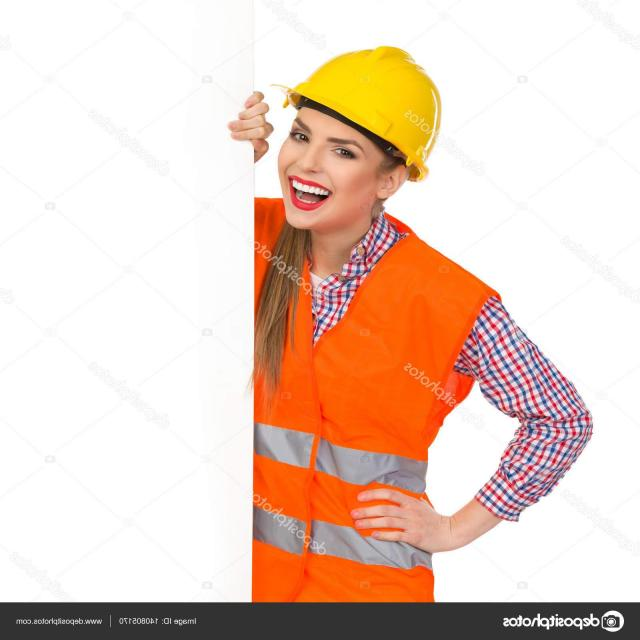Reflective-Jacket: (252, 218, 501, 603)
Safety-Helmet: (286, 45, 445, 172)
